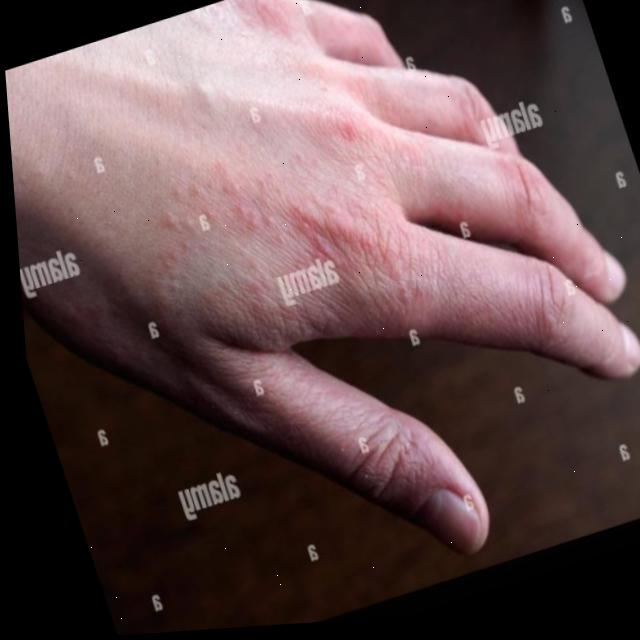Eczema: (97, 0, 424, 363)
